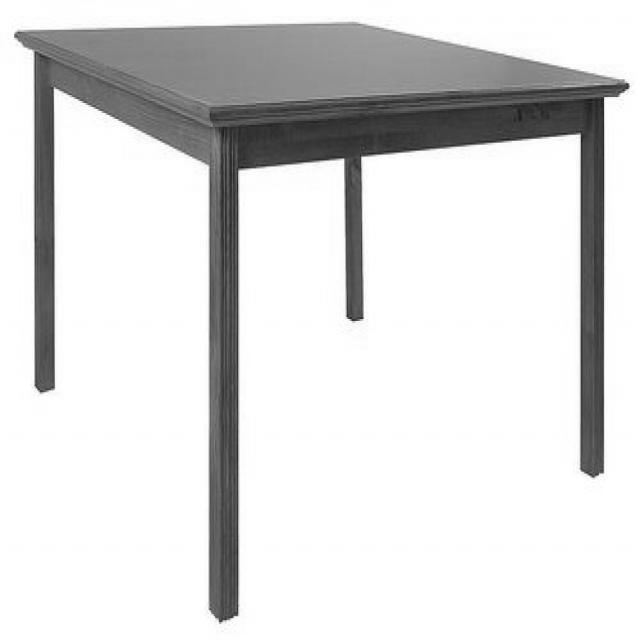table: (14, 19, 628, 618)
